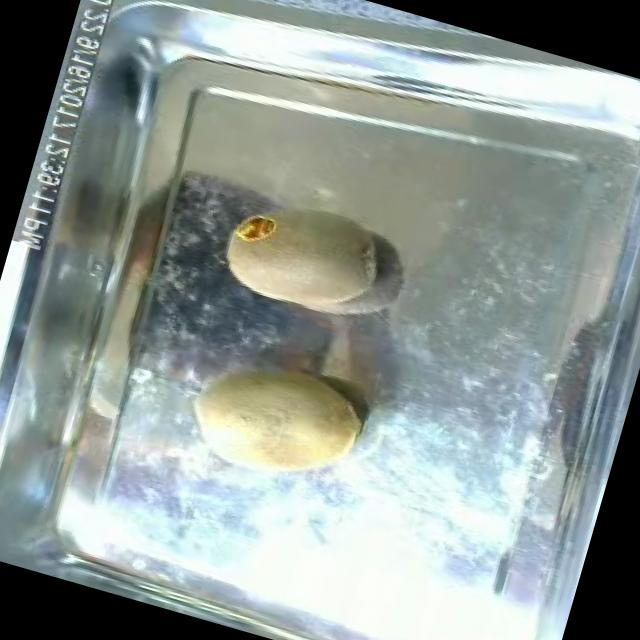Fruit: (170, 334, 382, 506), (204, 172, 406, 341)
